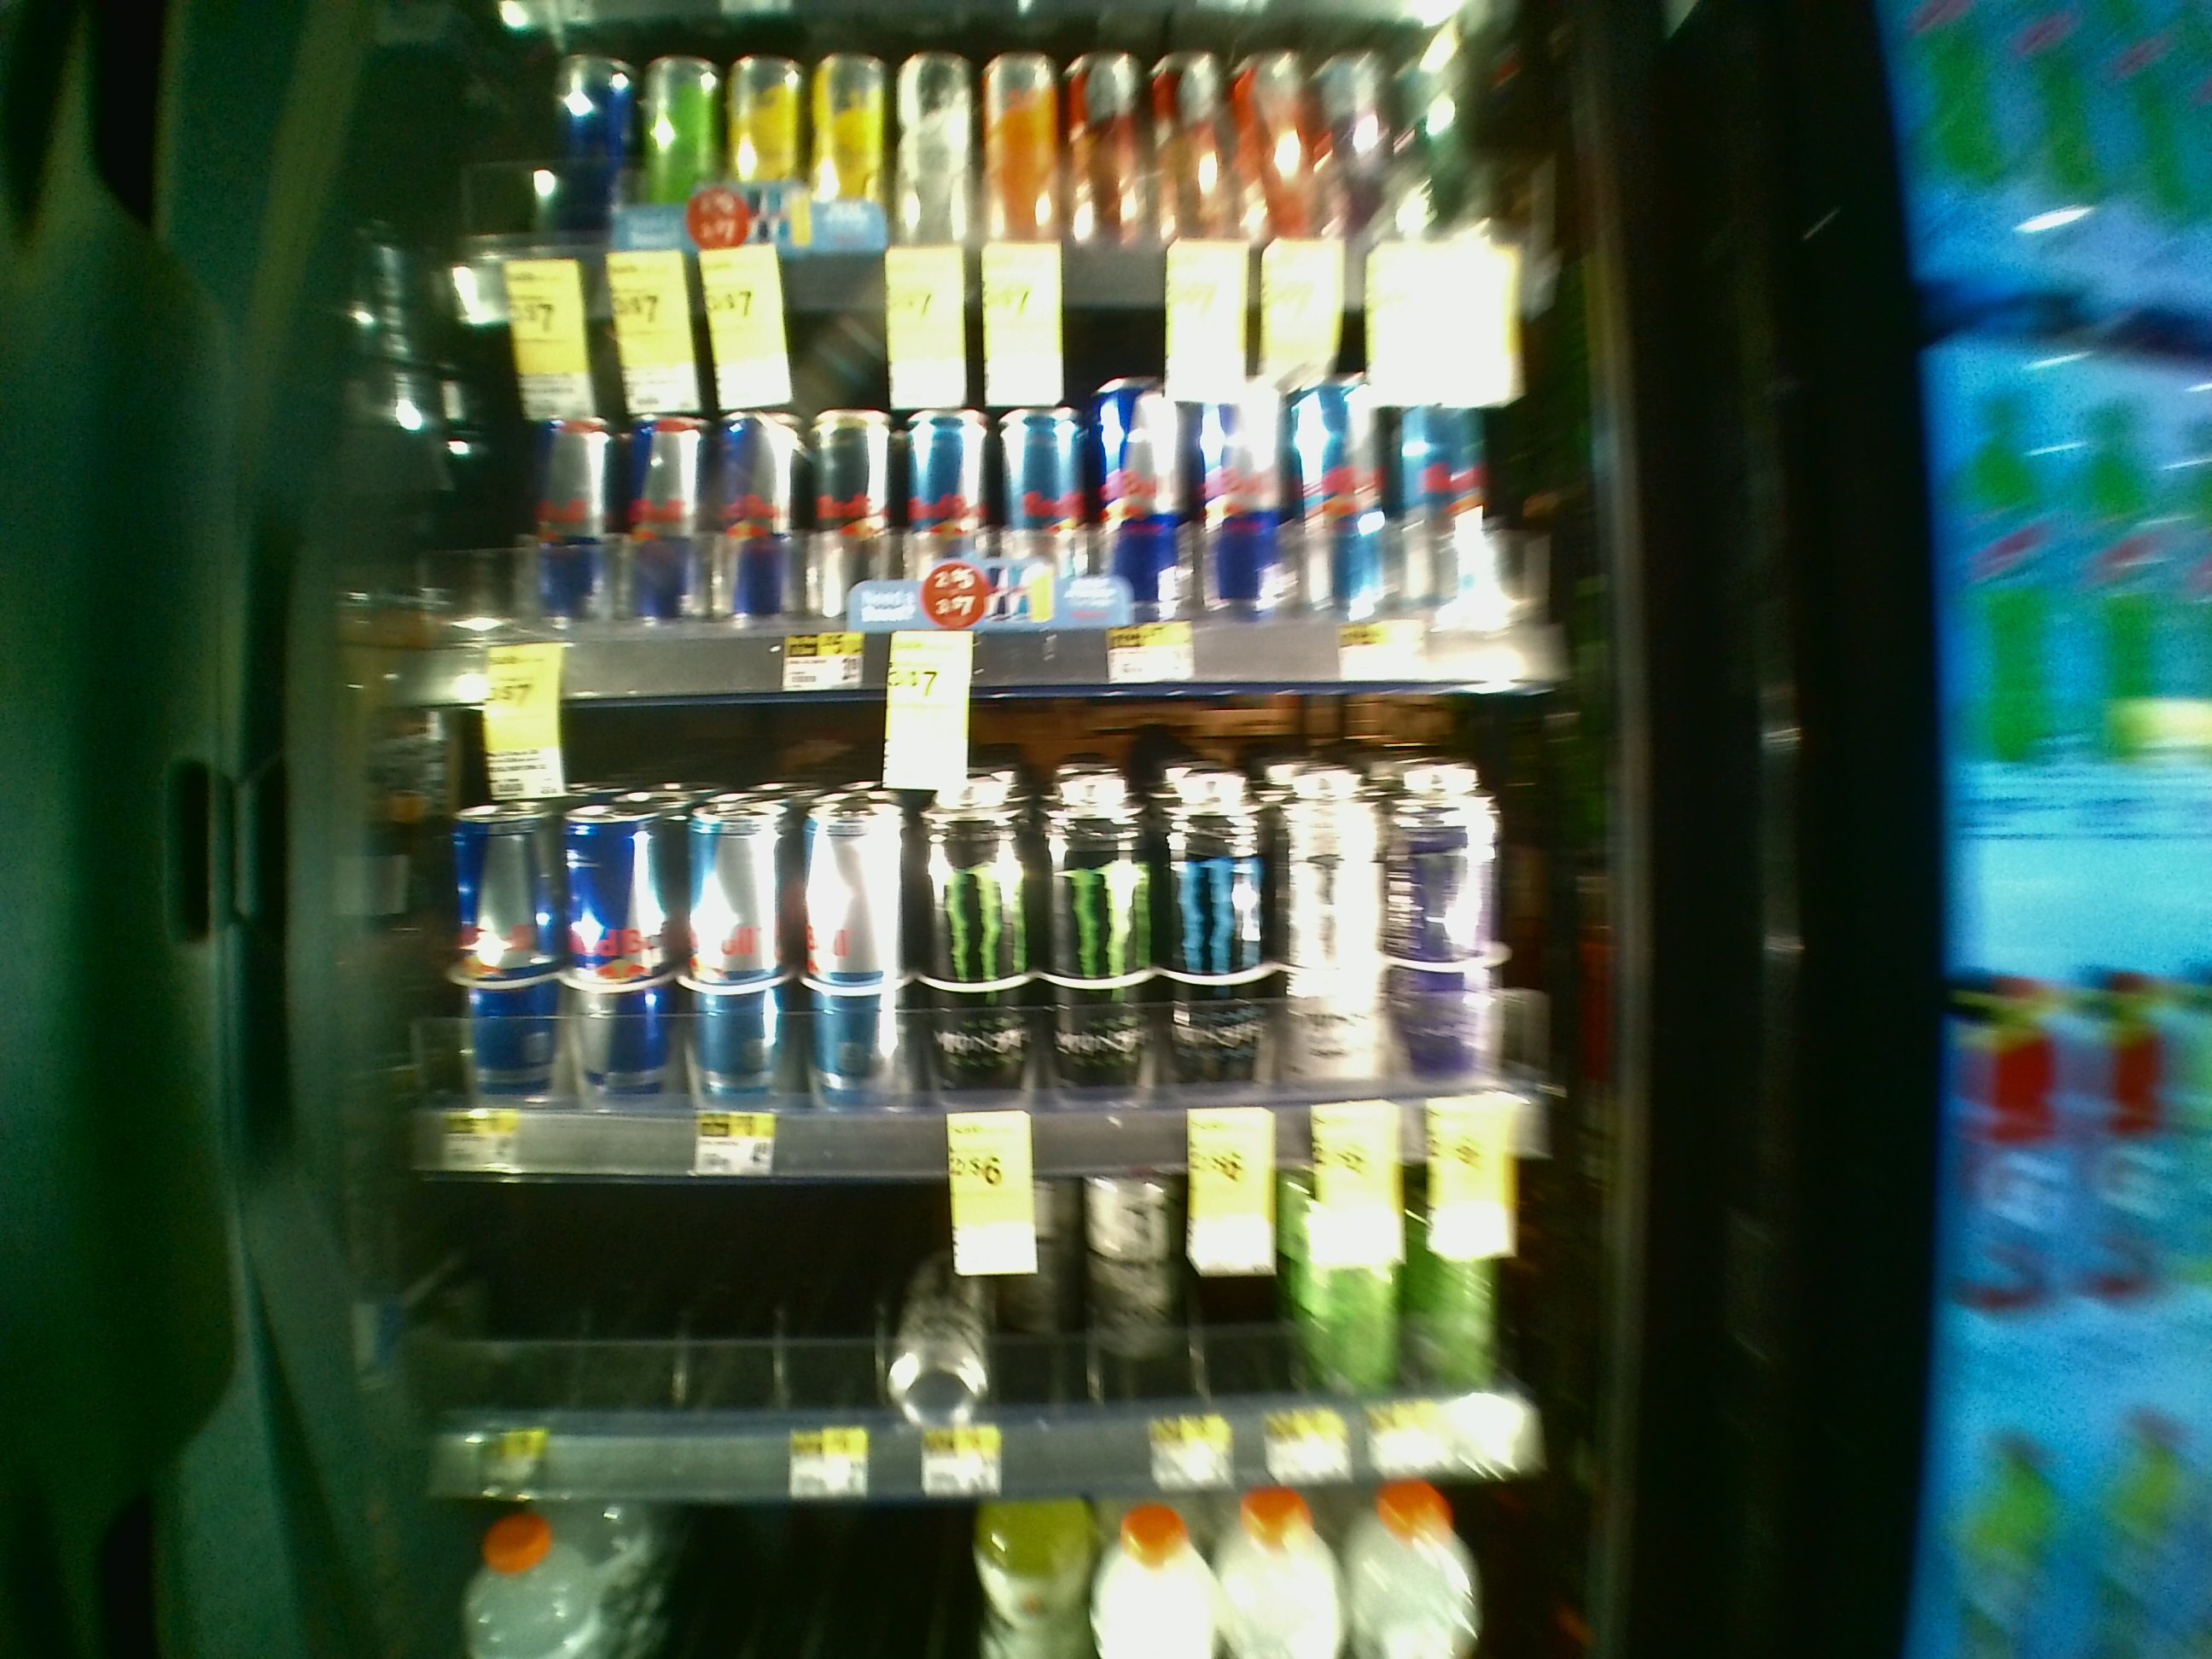shelf: (399, 701, 1618, 1168), (415, 301, 1615, 695)
